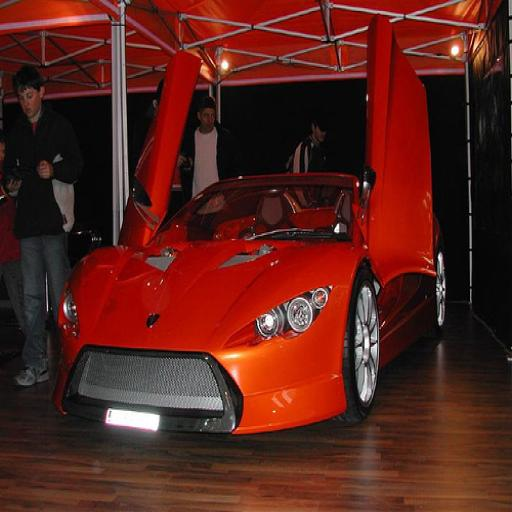person: (2, 63, 82, 390), (184, 92, 240, 196), (284, 115, 328, 172)
